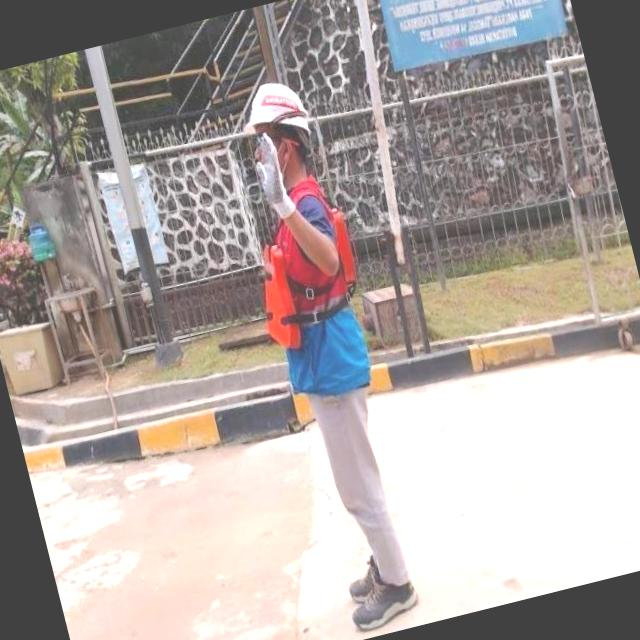vest: (227, 169, 384, 388)
